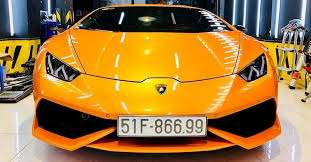Car number plates: (117, 115, 207, 136)
